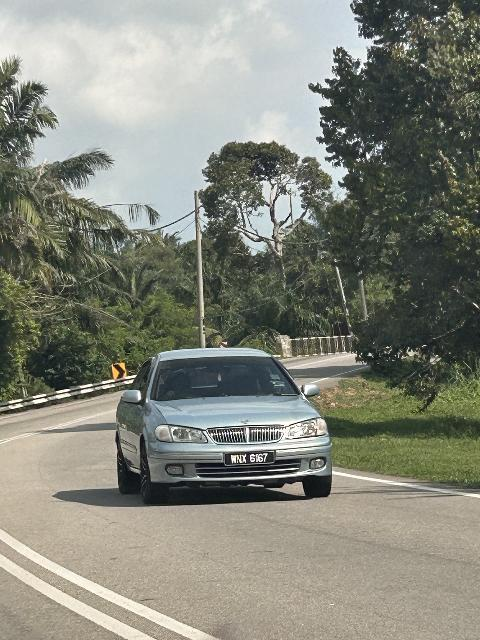License_Plate: (225, 452, 276, 469)
WNX6167: (225, 452, 276, 469)
car: (111, 346, 339, 507)
